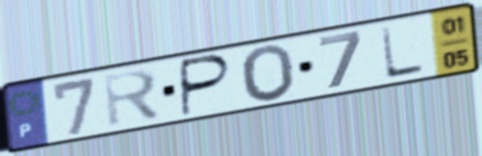7: (315, 28, 367, 92), (50, 74, 100, 138)
L: (378, 24, 428, 82)
O: (238, 42, 298, 106)
P: (178, 52, 235, 120)
R: (101, 66, 165, 131)
